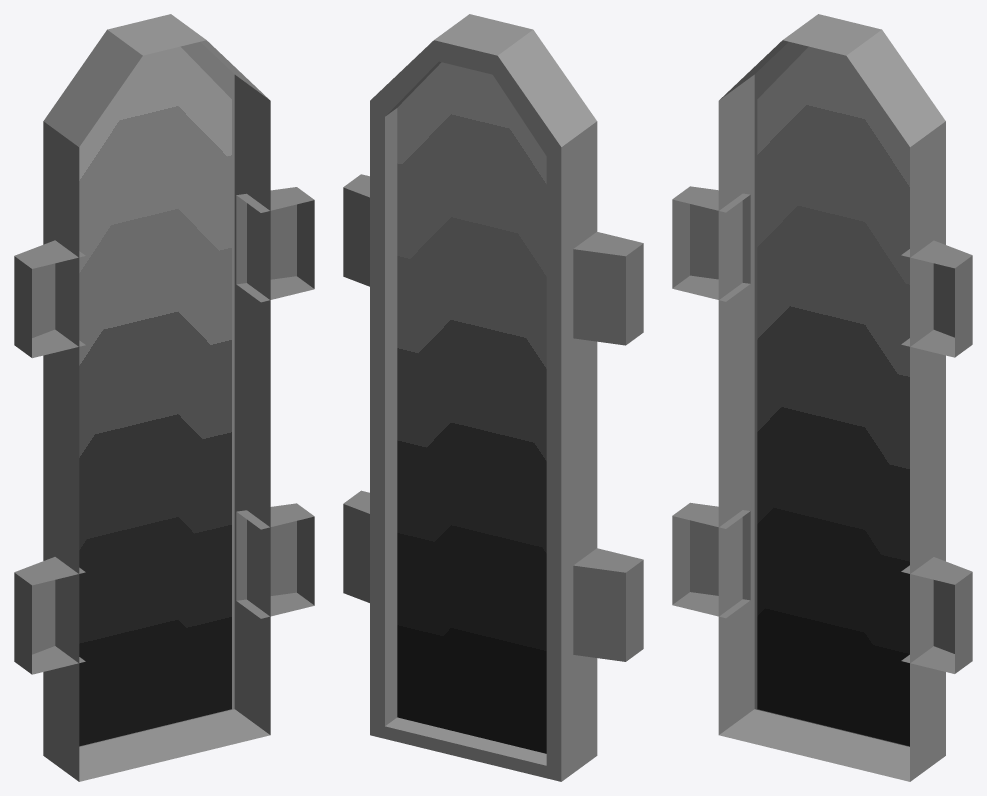
The model's file is window_B.FBX.
3 renders of one model, left to right at view 1: azimuth 30°, elevation 25°; view 2: azimuth 150°, elevation 25°; view 3: azimuth 330°, elevation 25°, orthographic.
Parts seen in each view (by area): view 1: window_B_glass, window_B; view 2: window_B_glass, window_B; view 3: window_B_glass, window_B.
Boxes of the visible parts, box(x1,y1,x2,y2) form: window_B_glass: box(79, 46, 231, 746); window_B: box(14, 14, 314, 781); window_B_glass: box(397, 62, 546, 753); window_B: box(343, 14, 643, 781); window_B_glass: box(757, 46, 909, 746); window_B: box(672, 14, 972, 781).
Bounding box in the file's own units: 85.22 × 205 × 18.66.
